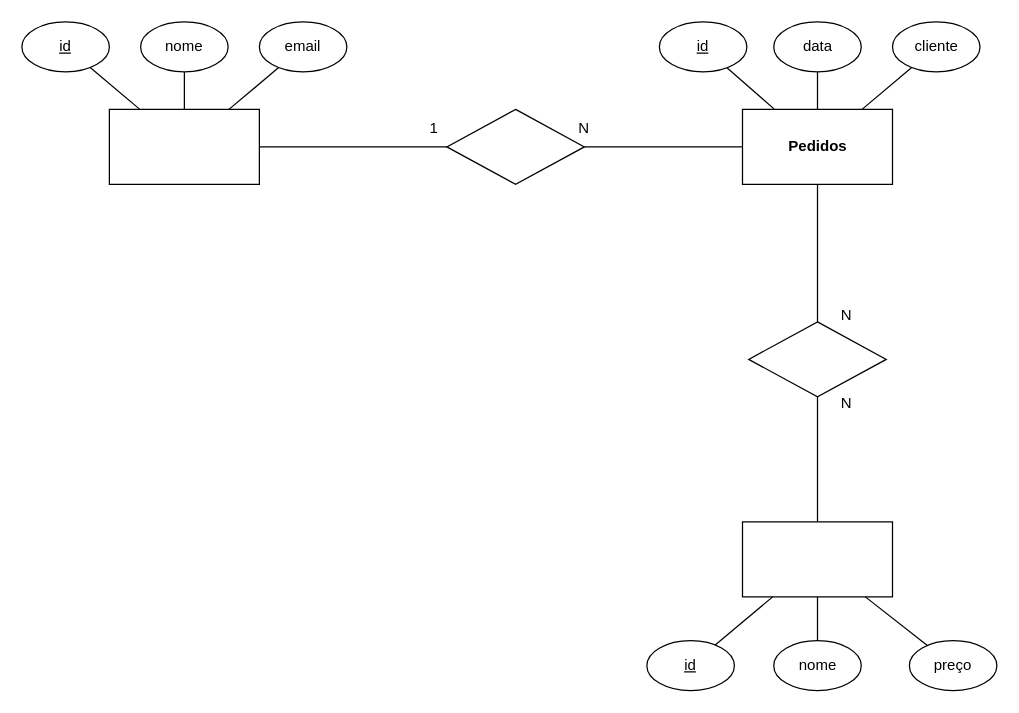
Image size: 1019x713. Some labels were removed from this diagram. The shapes that lost their labels are listed below. From the top down, each one's box as (x1, y1, x2, y2) in pixels, then its label:
(108, 108, 259, 184): Clientes
(446, 108, 584, 184): realiza
(748, 321, 886, 397): contém
(741, 521, 892, 597): Produtos
